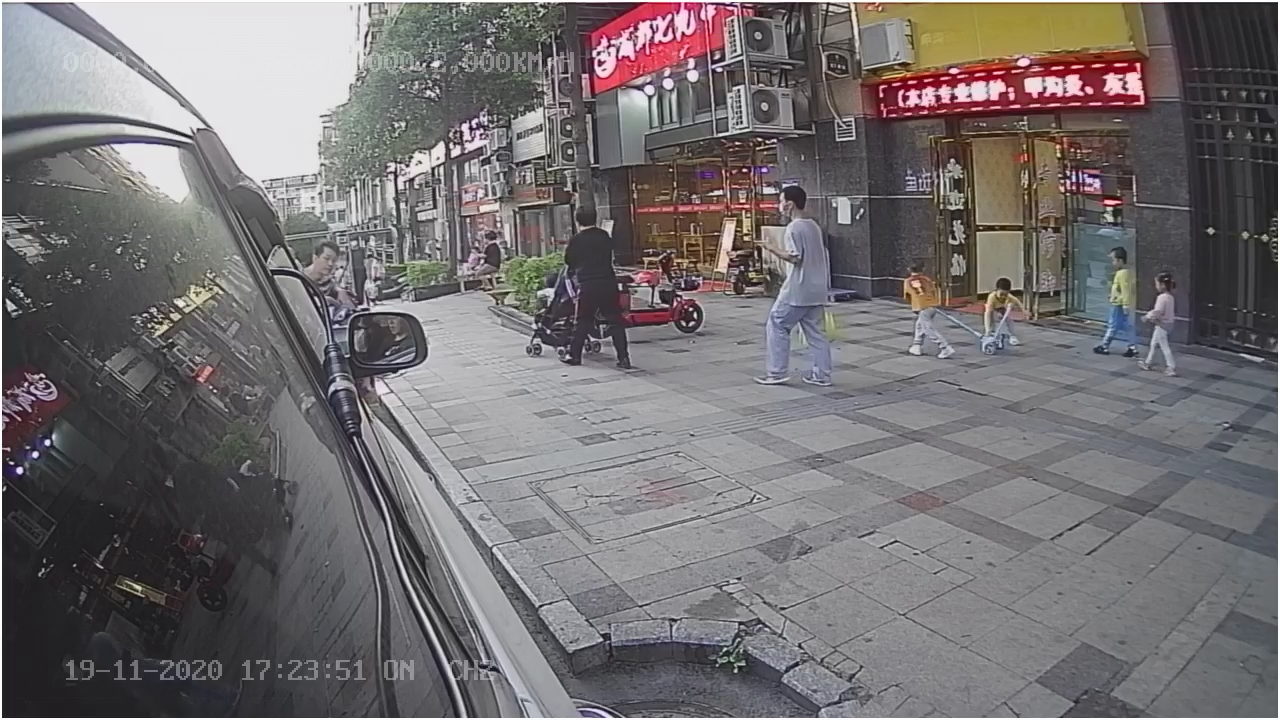person: (762, 183, 839, 394), (560, 204, 631, 371), (899, 259, 956, 363), (1096, 244, 1140, 362), (1141, 271, 1183, 378), (983, 276, 1030, 352)
